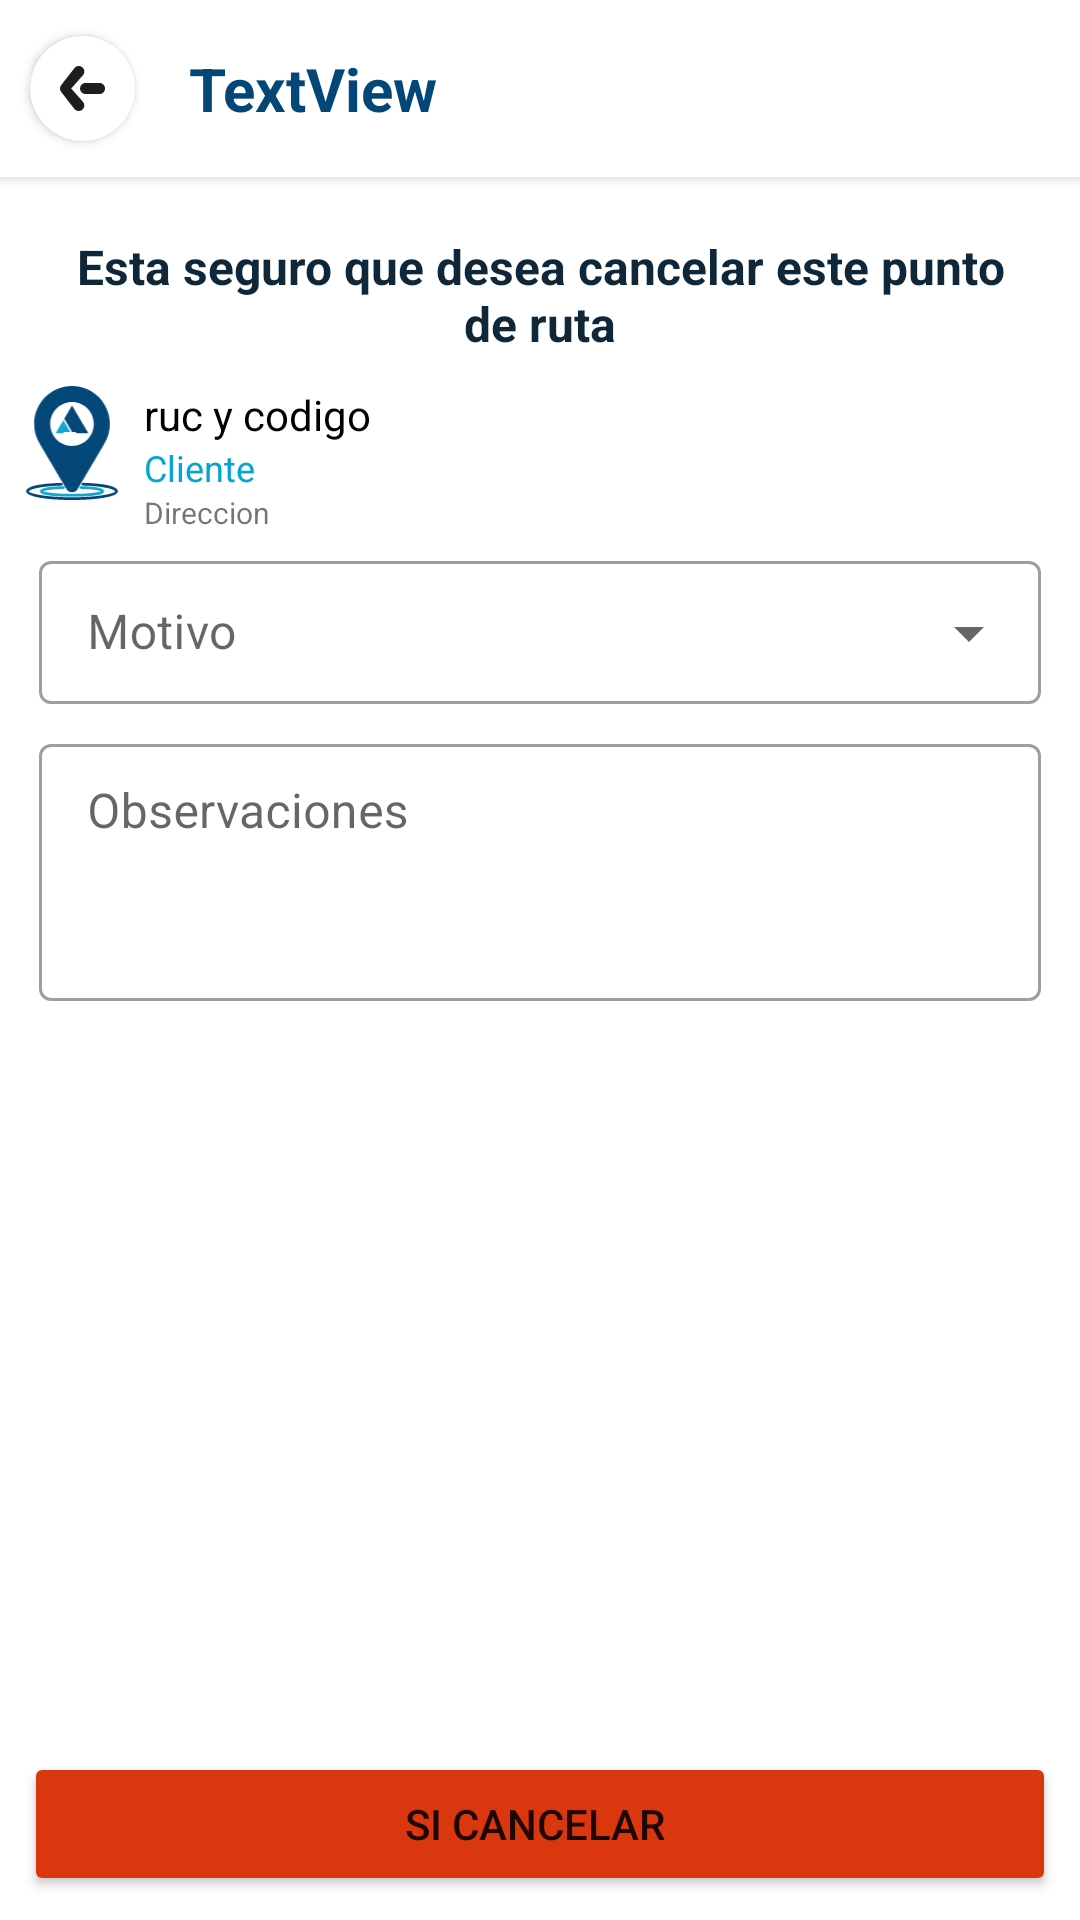

Icons on this 1080 x 1920 Android screen, each with its box as (x1, y1, x2, y2):
arrow back: (30, 36, 105, 141)
